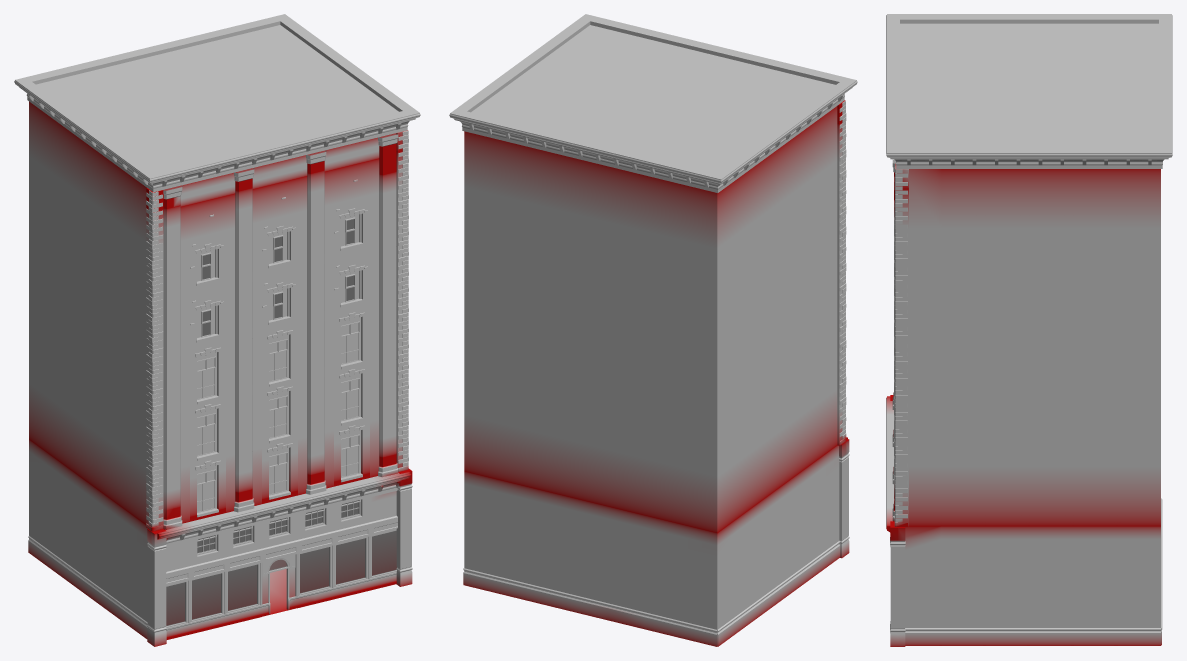
File: Building_Medium_2_001.gltf
3 views of the same model, side by side, from view 1: azimuth 30°, elevation 25°; view 2: azimuth 150°, elevation 25°; view 3: azimuth 270°, elevation 25° (orthographic). The views are drawn at different scales.
Visible parts, largest first — view 1: Building_Medium_2.001; view 2: Building_Medium_2.001; view 3: Building_Medium_2.001.
Boxes of the visible parts, x1=… form: Building_Medium_2.001: x1=14, y1=14, x2=420, y2=646; Building_Medium_2.001: x1=449, y1=14, x2=857, y2=646; Building_Medium_2.001: x1=886, y1=14, x2=1172, y2=646.
Bounding box in the file's own units: 15.06 × 25.01 × 13.06.
